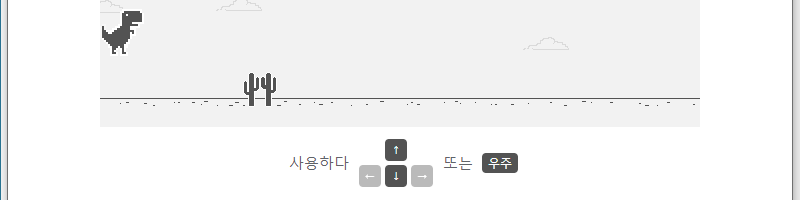dinosaur: (100, 8, 144, 56)
obstacle: (240, 72, 280, 108)
